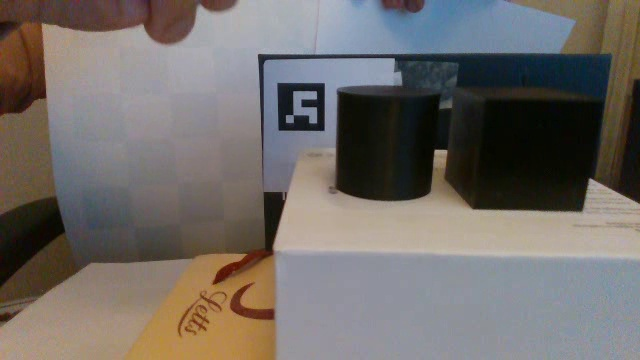cube: (443, 81, 605, 221)
cylindre: (329, 78, 440, 204)
